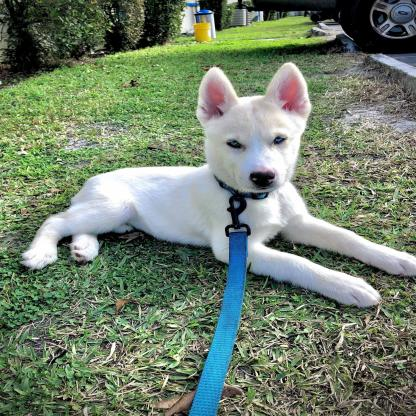dog: (25, 63, 416, 310)
